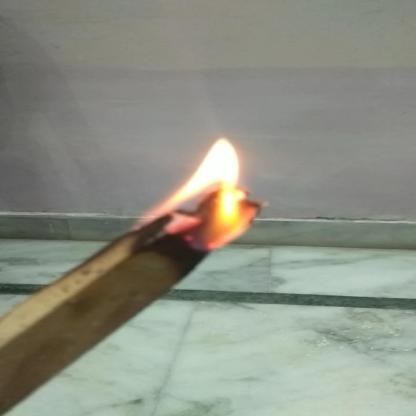fire: (124, 134, 266, 258)
